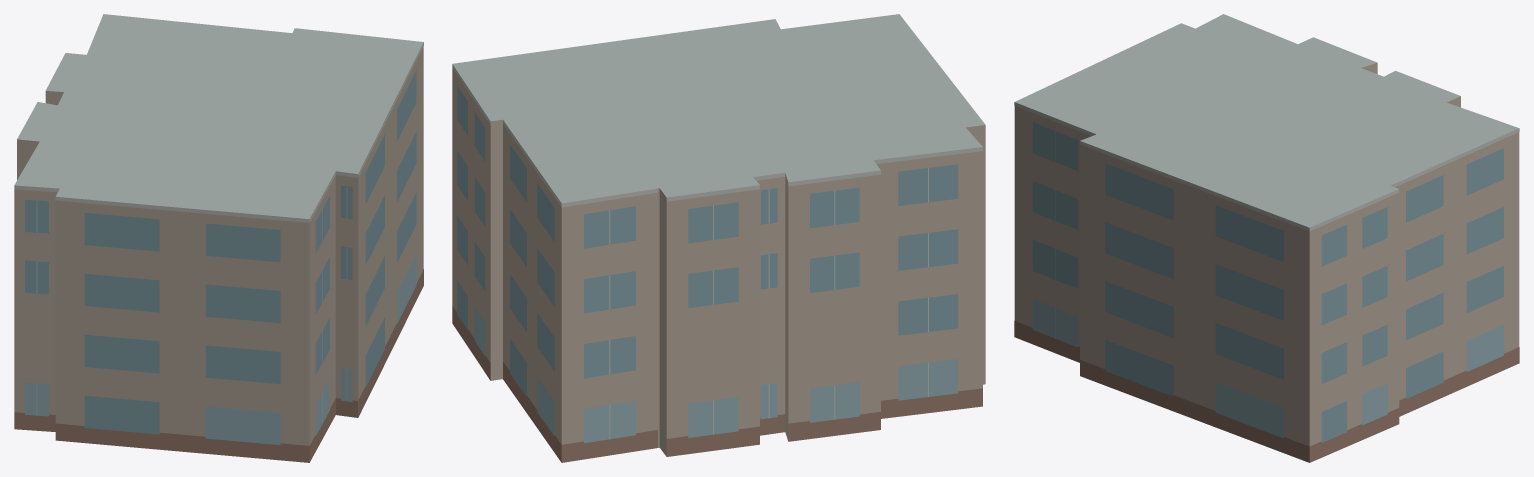
The model's file is survey-upis-32492380.glb.
3 views of the same model, side by side, from view 1: azimuth 30°, elevation 25°; view 2: azimuth 150°, elevation 25°; view 3: azimuth 270°, elevation 25° (orthographic). The views are drawn at different scales.
Visible parts, largest first — view 1: survey-upis-32492380.tmp; view 2: survey-upis-32492380.tmp; view 3: survey-upis-32492380.tmp.
Part boxes in pixels (bbox=[...]): survey-upis-32492380.tmp: bbox=[14, 14, 423, 462]; survey-upis-32492380.tmp: bbox=[452, 14, 985, 462]; survey-upis-32492380.tmp: bbox=[1014, 14, 1519, 462].
Bounding box in the file's own units: 29.91 × 15.34 × 29.85.
